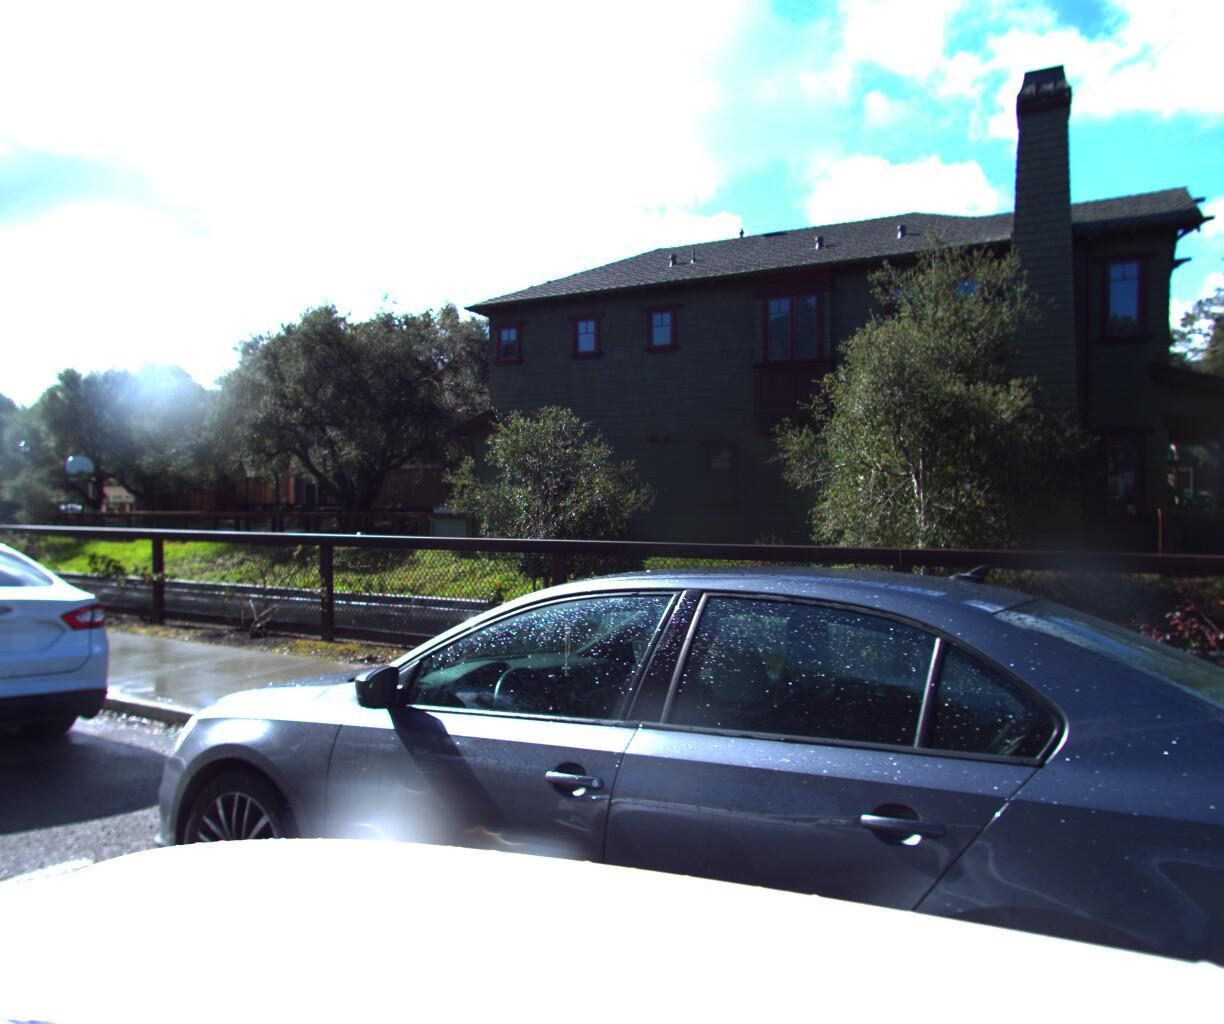car: (81, 523, 1224, 1024), (0, 510, 147, 825)
